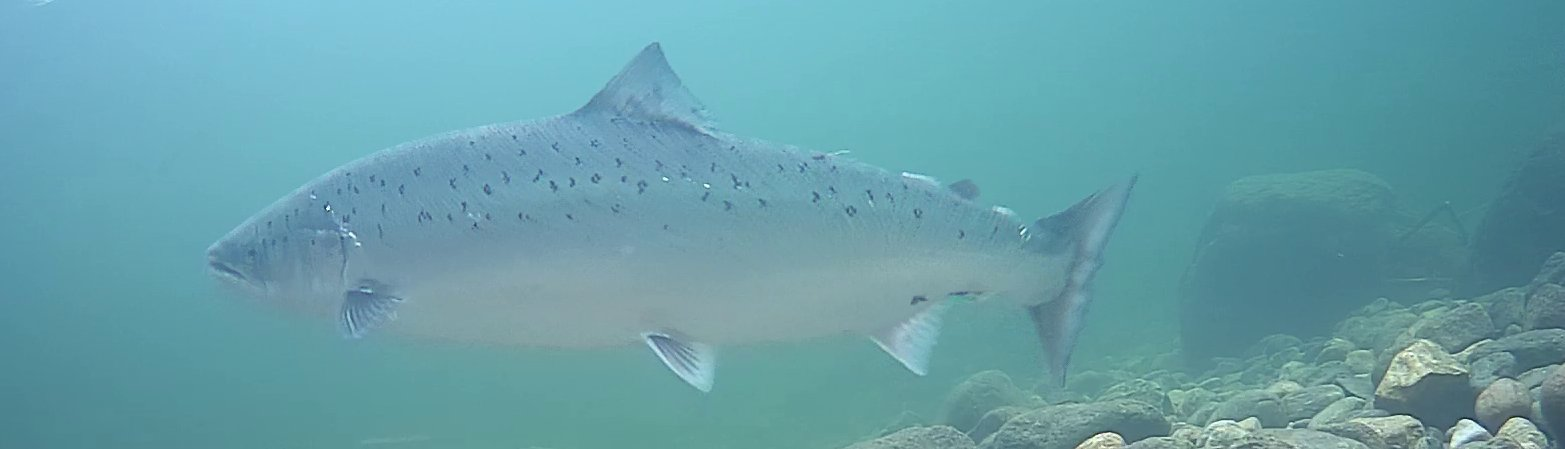salmon: (199, 36, 1143, 396)
